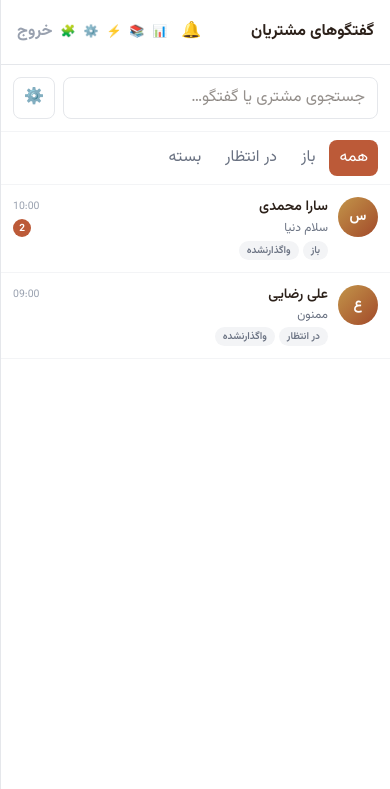
Test: Operator dashboard — customer conversations page › mobile navigation: back button returns to the list, info button opens and closes the overlay
Step 1. Click the text "سارا محمدی" → (294, 207), box [259, 197, 328, 217]
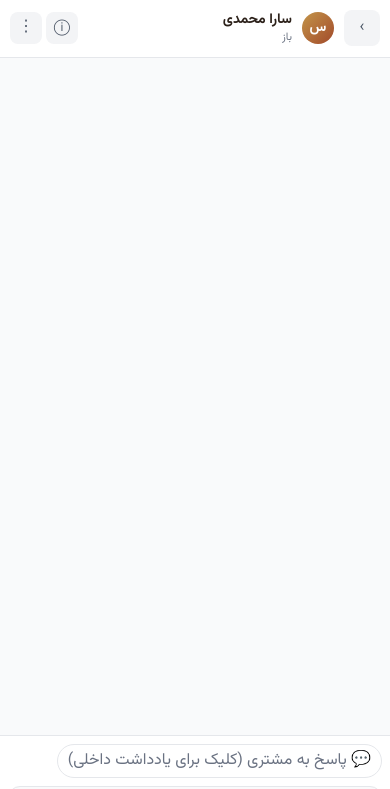
Step 2. Click the button "›" → (362, 28), box [344, 10, 380, 46]
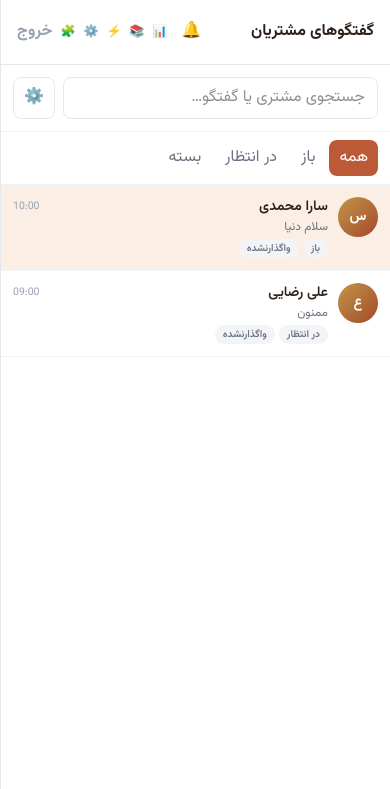
Step 3. Click the text "سارا محمدی" → (294, 207), box [259, 197, 328, 217]
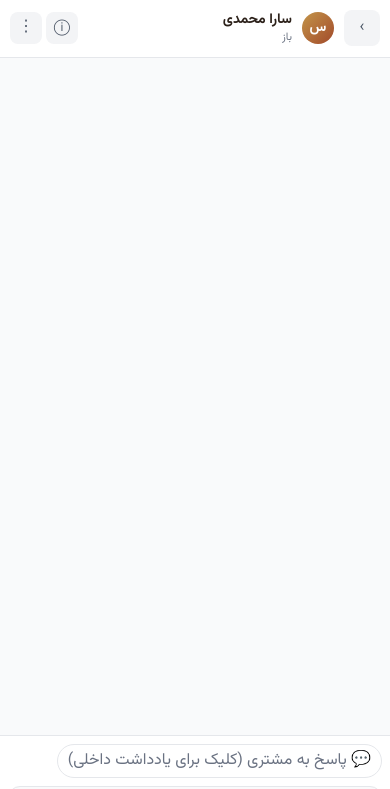
Step 4. Click the button titled "اطلاعات مشتری" → (62, 28), box [46, 12, 78, 44]
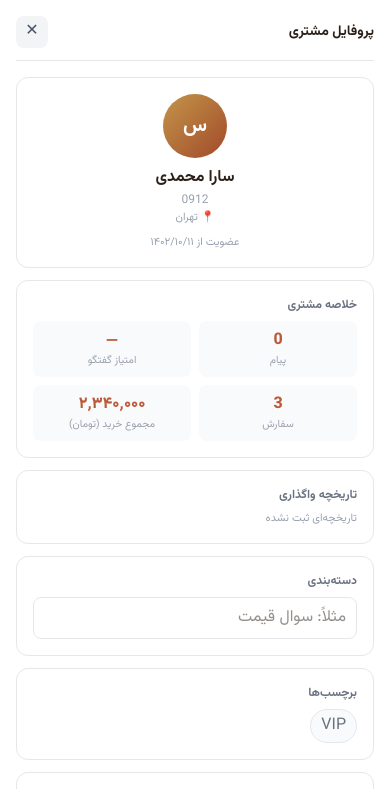
Expected: the text "خلاصه مشتری" is shown 2 times
Expected: the text "پروفایل مشتری" is shown, [289, 22, 374, 42]
Step 5. Click the button titled "بازگشت" → (32, 32), box [16, 16, 48, 48]
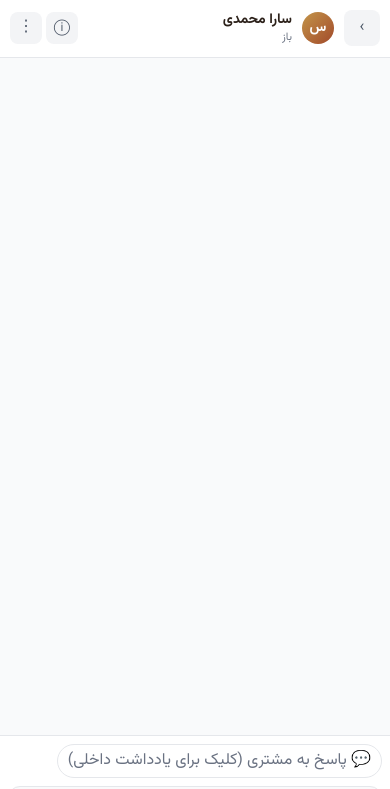
Expected: the text "پروفایل مشتری" is gone
